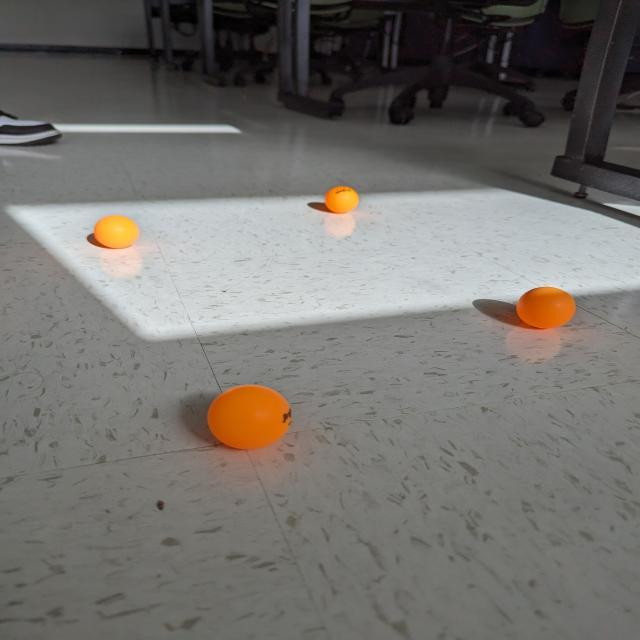ping-pong-ball: (202, 379, 296, 452), (513, 283, 579, 330), (91, 213, 142, 249), (322, 184, 363, 215)
